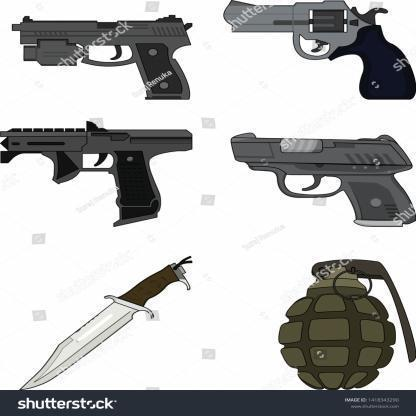Grenade: (272, 256, 416, 389)
Knife: (19, 253, 199, 391)
Pistol: (4, 118, 193, 227), (220, 1, 416, 100), (228, 130, 416, 226), (7, 12, 198, 102)
